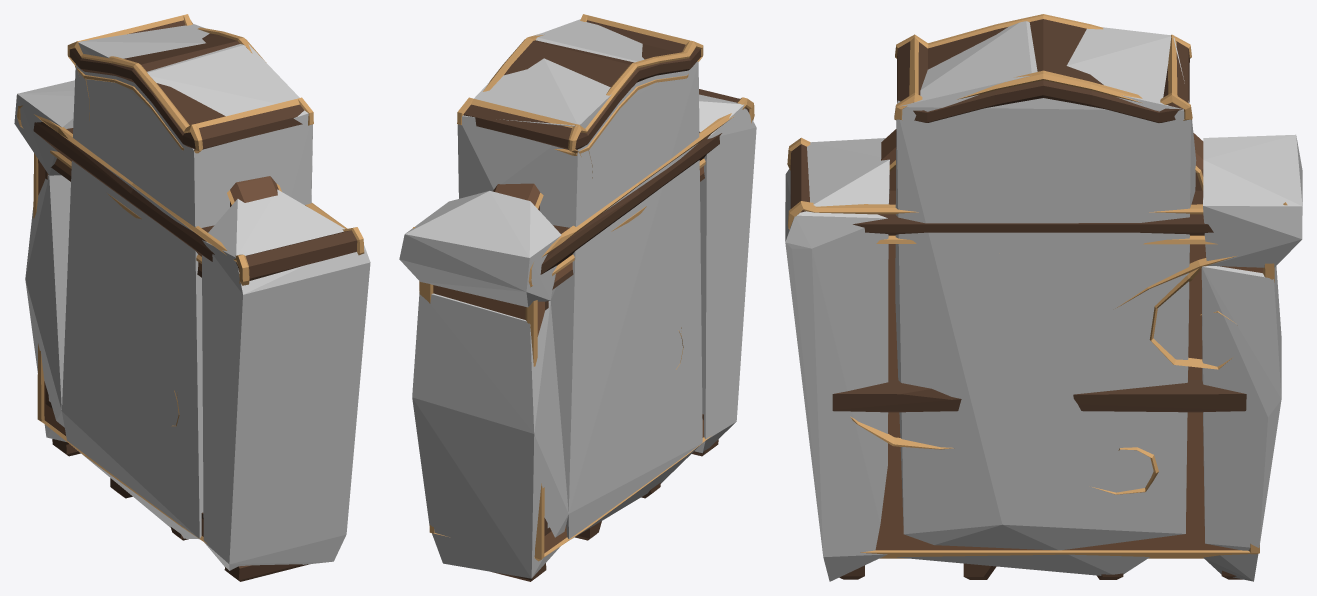
The model's file is SM_Prop_Cabinet_01.fbx.
3 views of the same model, side by side, from view 1: azimuth 30°, elevation 25°; view 2: azimuth 150°, elevation 25°; view 3: azimuth 270°, elevation 25° (orthographic). The views are drawn at different scales.
Parts seen in each view (by area): view 1: SM_Prop_Cabinet_01_ConvexHulls, SM_Prop_Cabinet_01; view 2: SM_Prop_Cabinet_01_ConvexHulls, SM_Prop_Cabinet_01; view 3: SM_Prop_Cabinet_01_ConvexHulls, SM_Prop_Cabinet_01.
Boxes of the visible parts, x1=… form: SM_Prop_Cabinet_01_ConvexHulls: x1=14, y1=24, x2=370, y2=570; SM_Prop_Cabinet_01: x1=17, y1=14, x2=364, y2=581; SM_Prop_Cabinet_01_ConvexHulls: x1=399, y1=19, x2=756, y2=578; SM_Prop_Cabinet_01: x1=412, y1=14, x2=754, y2=581; SM_Prop_Cabinet_01_ConvexHulls: x1=785, y1=21, x2=1302, y2=581; SM_Prop_Cabinet_01: x1=787, y1=14, x2=1287, y2=579.
Bounding box in the file's own units: 70.43 × 219 × 240.
Materials: 2 (1 with a texture image).
